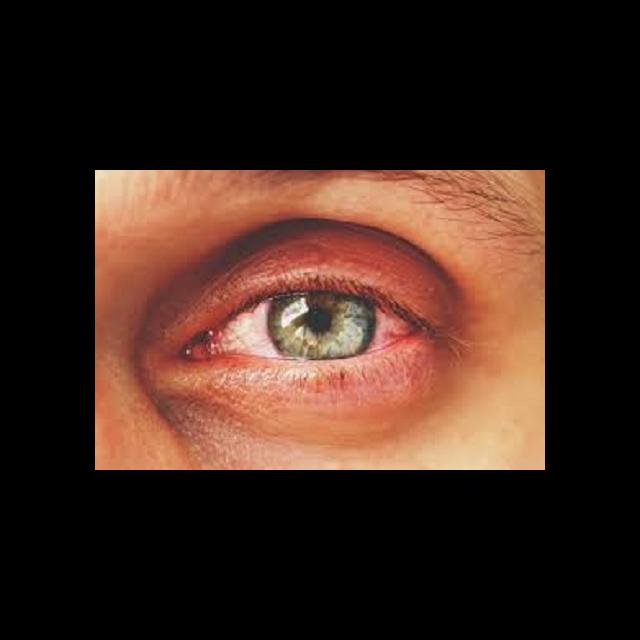eye: (211, 291, 420, 360)
iris: (269, 293, 375, 358)
